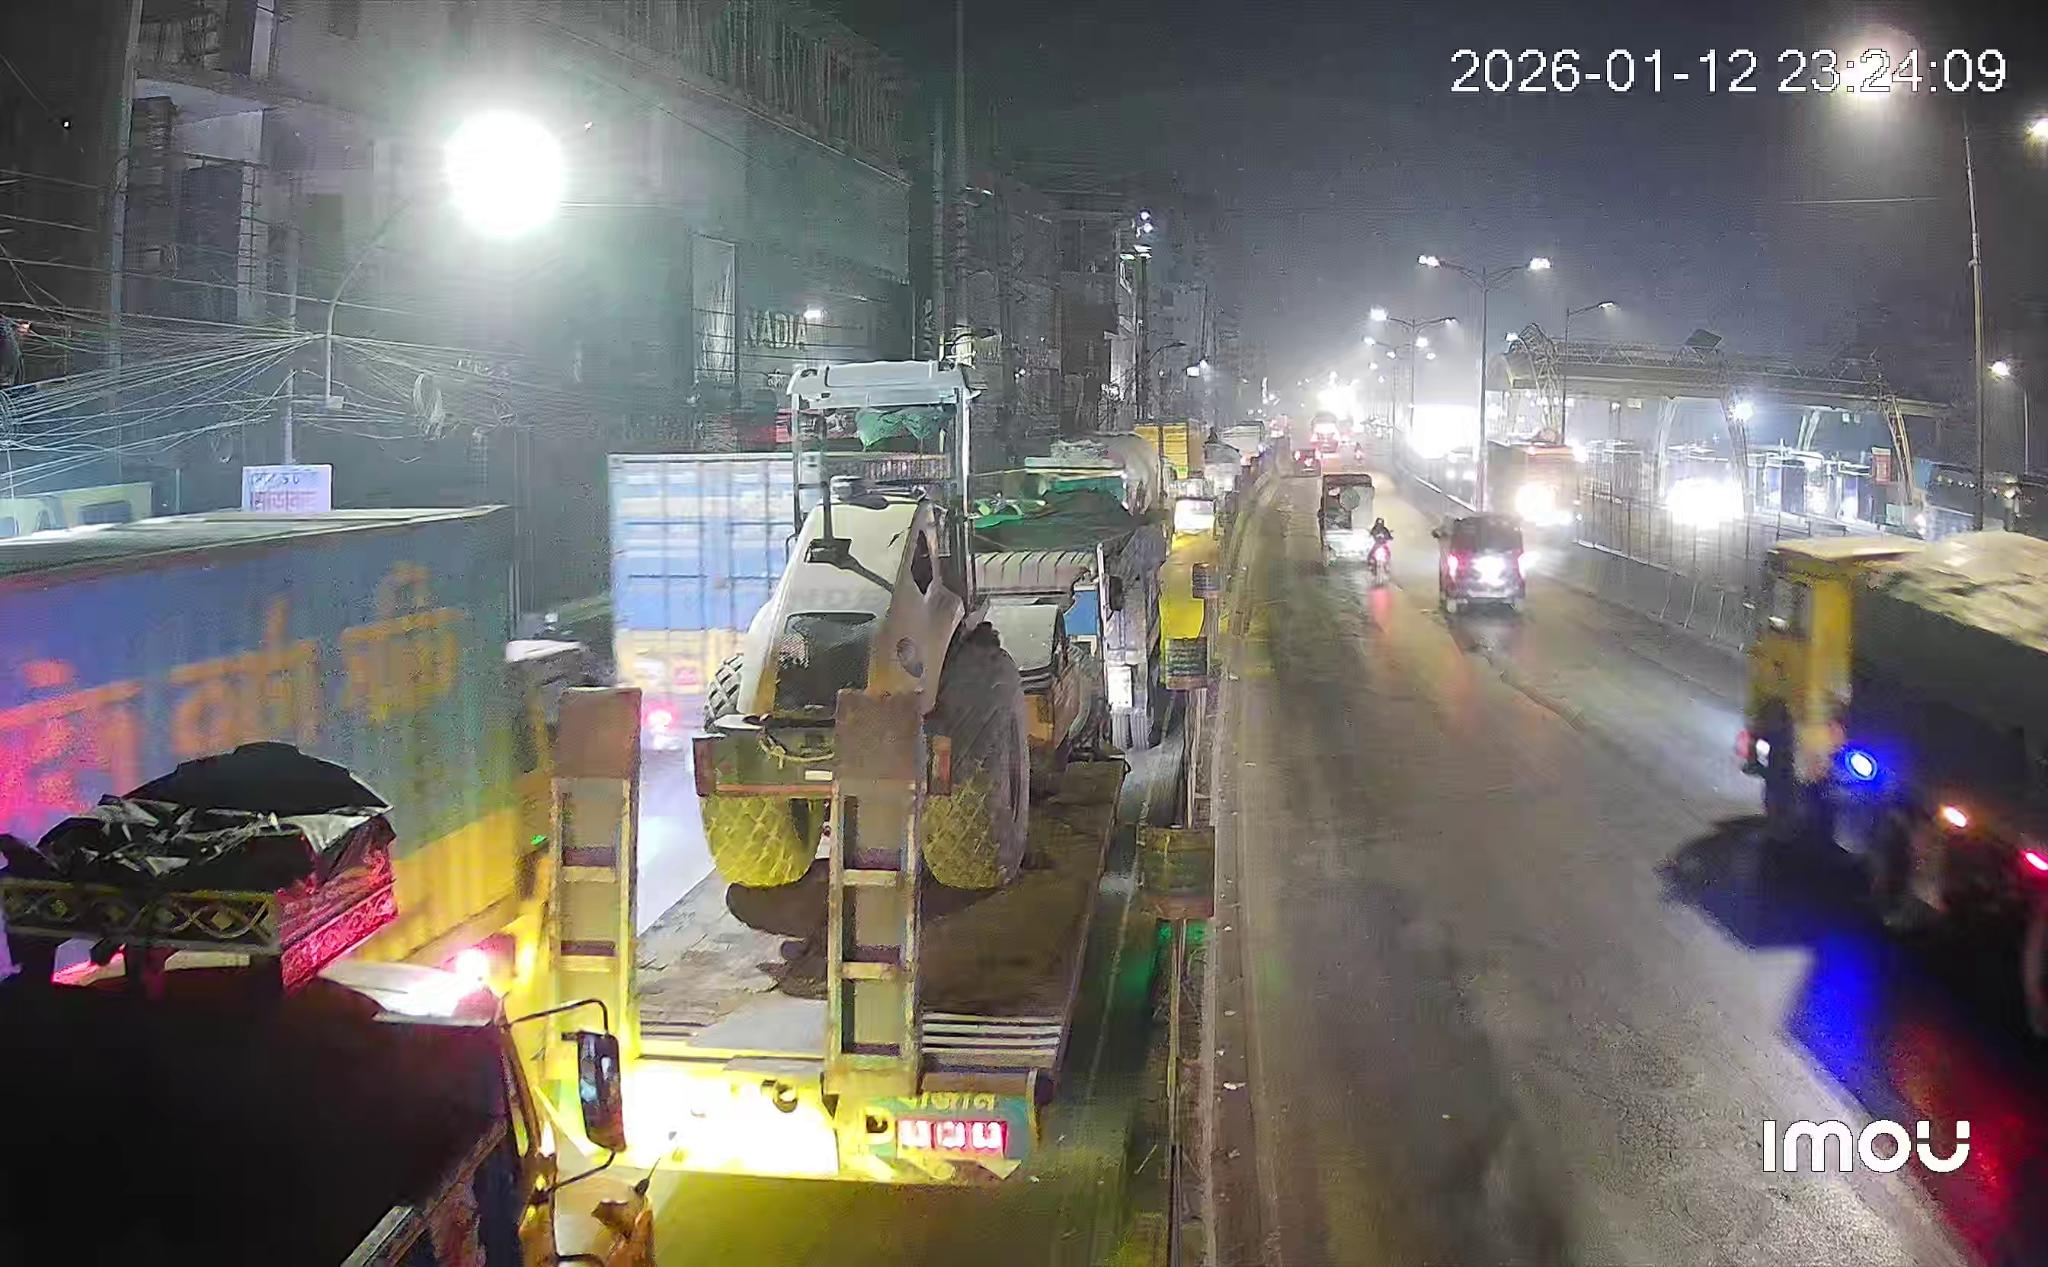Jeep-SUV: (1432, 514, 1527, 614)
Motorcycle: (1366, 521, 1391, 579)
Truck: (641, 361, 1126, 1184), (0, 742, 652, 1267), (0, 508, 594, 957), (1735, 531, 2047, 1040), (609, 454, 818, 749), (976, 435, 1167, 746), (829, 454, 955, 493)
